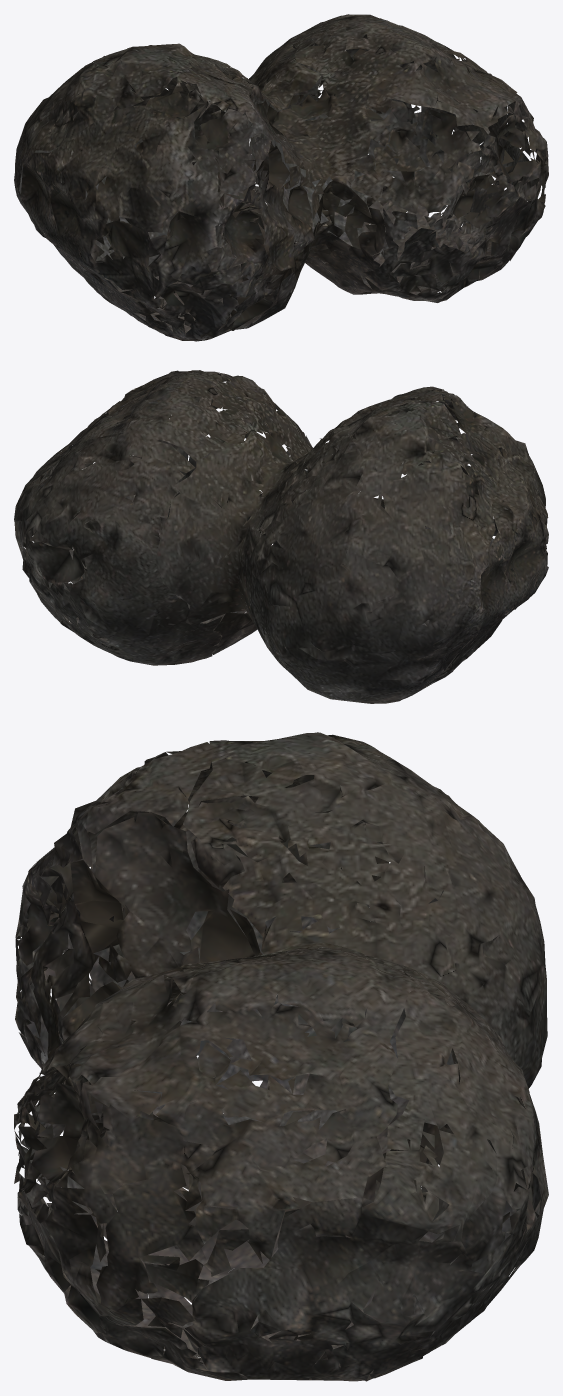
The model's file is asteroid_rare_3_lod1.glb.
3 views of the same model, one above another, from view 1: azimuth 30°, elevation 25°; view 2: azimuth 150°, elevation 25°; view 3: azimuth 270°, elevation 25° (orthographic). The views are drawn at different scales.
Parts seen in each view (by area): view 1: model; view 2: model; view 3: model.
Boxes of the visible parts, box(x1,y1,x2,y2) form: model: box(14, 14, 548, 341); model: box(14, 370, 548, 703); model: box(14, 732, 548, 1381).
Bounding box in the file's own units: 1.9 × 1.13 × 1.23.
Materials: 1 (1 with a texture image).
